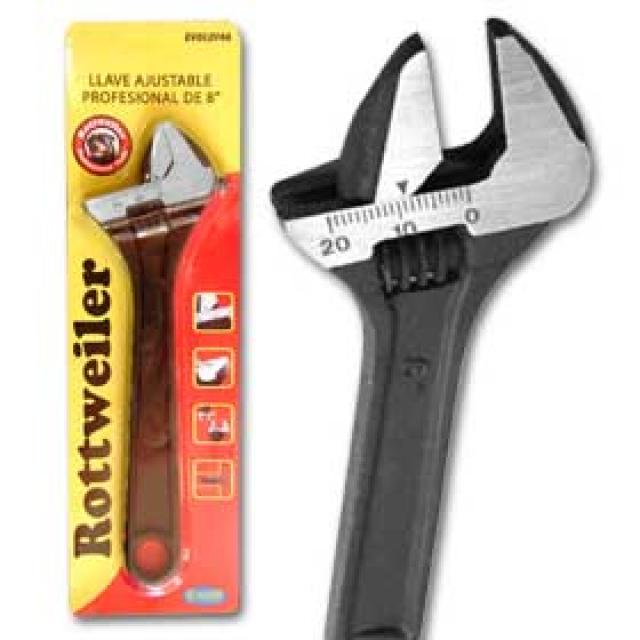wrench: (261, 14, 633, 640), (66, 112, 210, 599)
